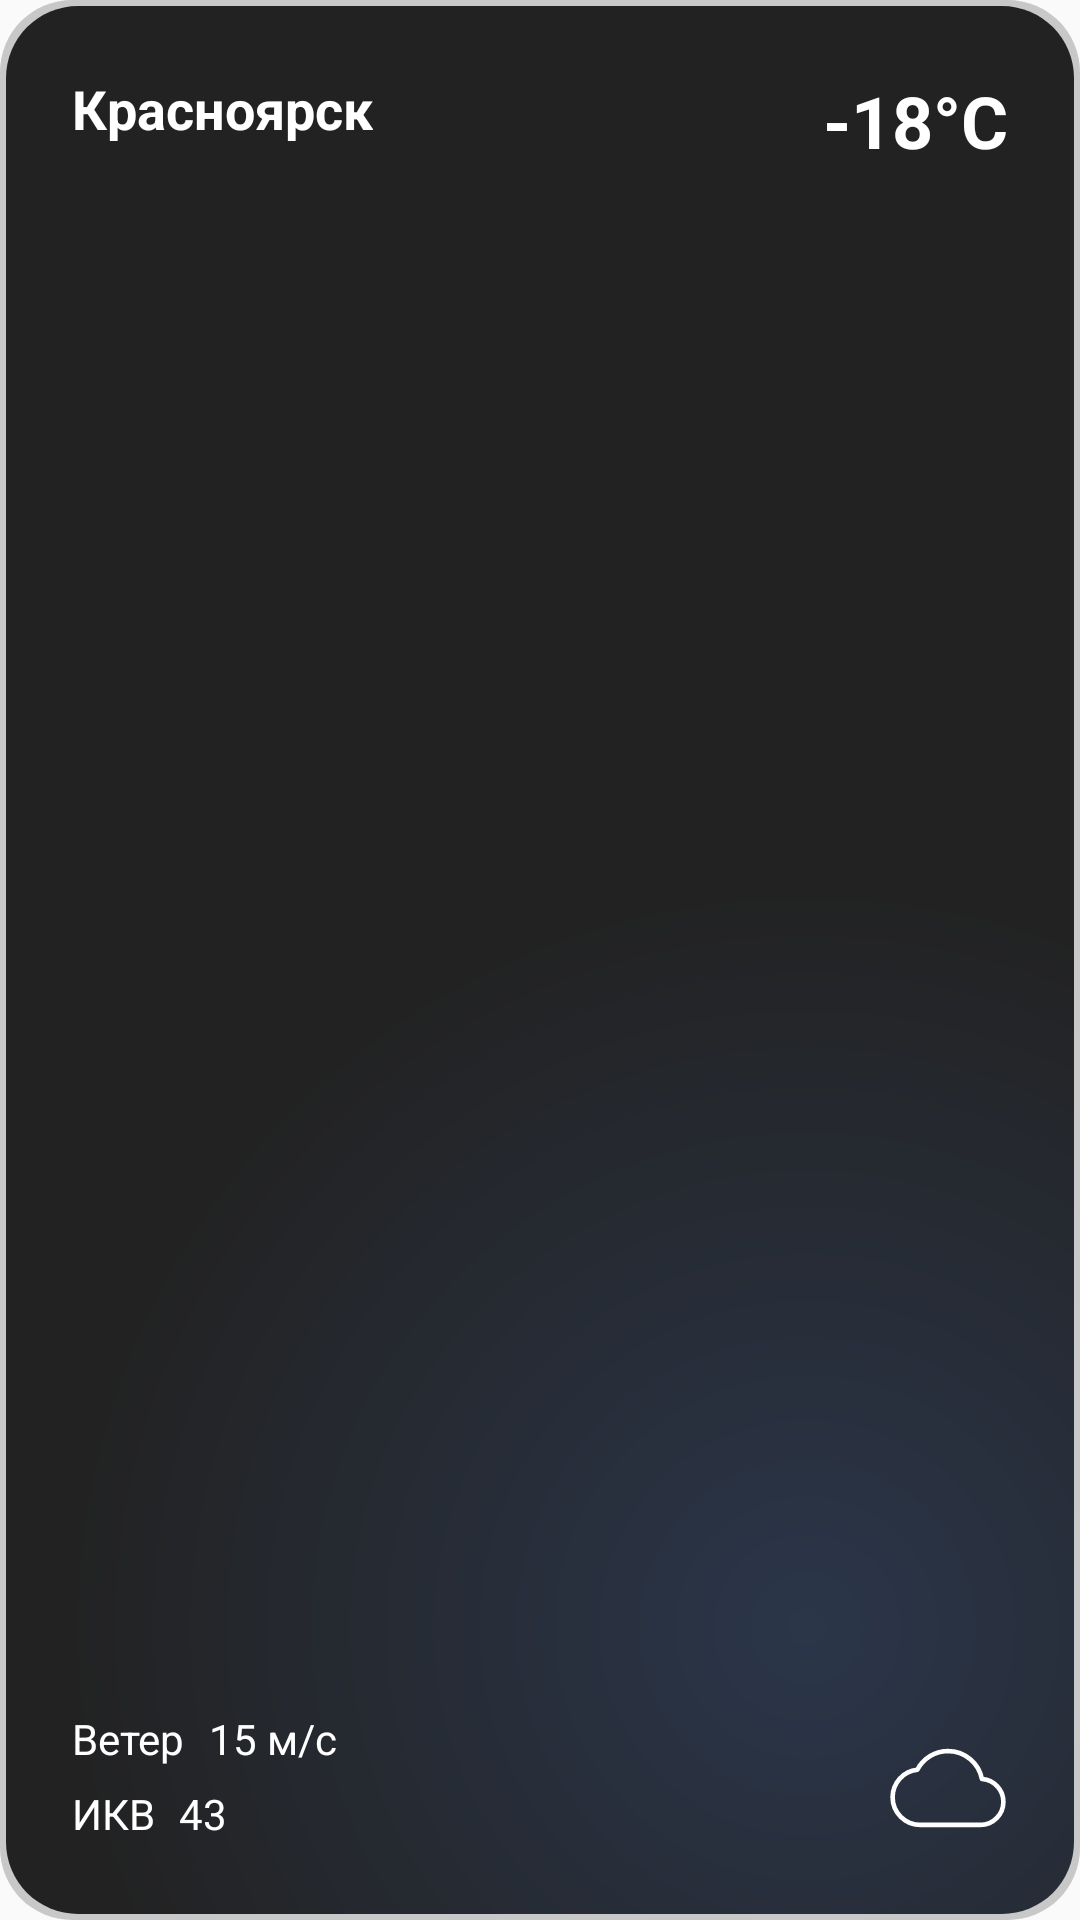

Icon click points for this 1080x1920 phone screenshot, format [x,y]:
Weather Icon: [948,1788]
